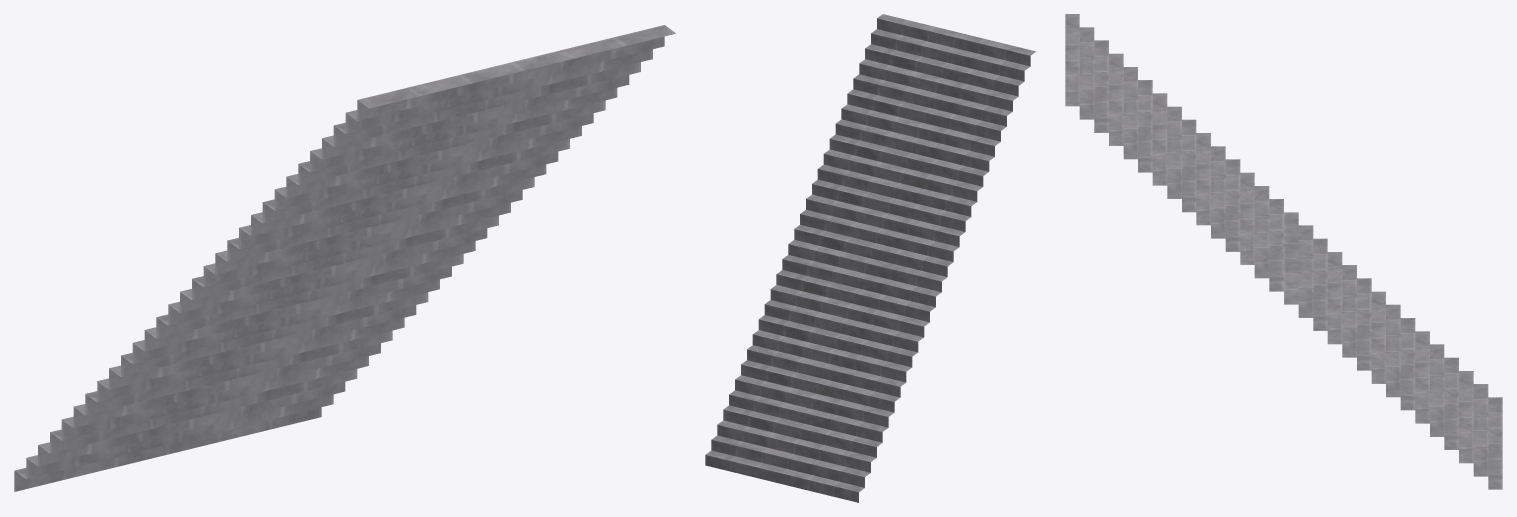
Rendered from Stair_6H_B.fbx.
3 views of the same model, side by side, from view 1: azimuth 30°, elevation 25°; view 2: azimuth 150°, elevation 25°; view 3: azimuth 270°, elevation 25° (orthographic). The views are drawn at different scales.
Parts seen in each view (by area): view 1: Stair_6H_B; view 2: Stair_6H_B; view 3: Stair_6H_B.
Boxes of the visible parts, left/top/right/bottom form: Stair_6H_B: left=14, top=25, right=675, bottom=491; Stair_6H_B: left=705, top=14, right=1036, bottom=502; Stair_6H_B: left=1065, top=14, right=1502, bottom=489.
Size of the model in its own units: 3 by 6 by 6.
